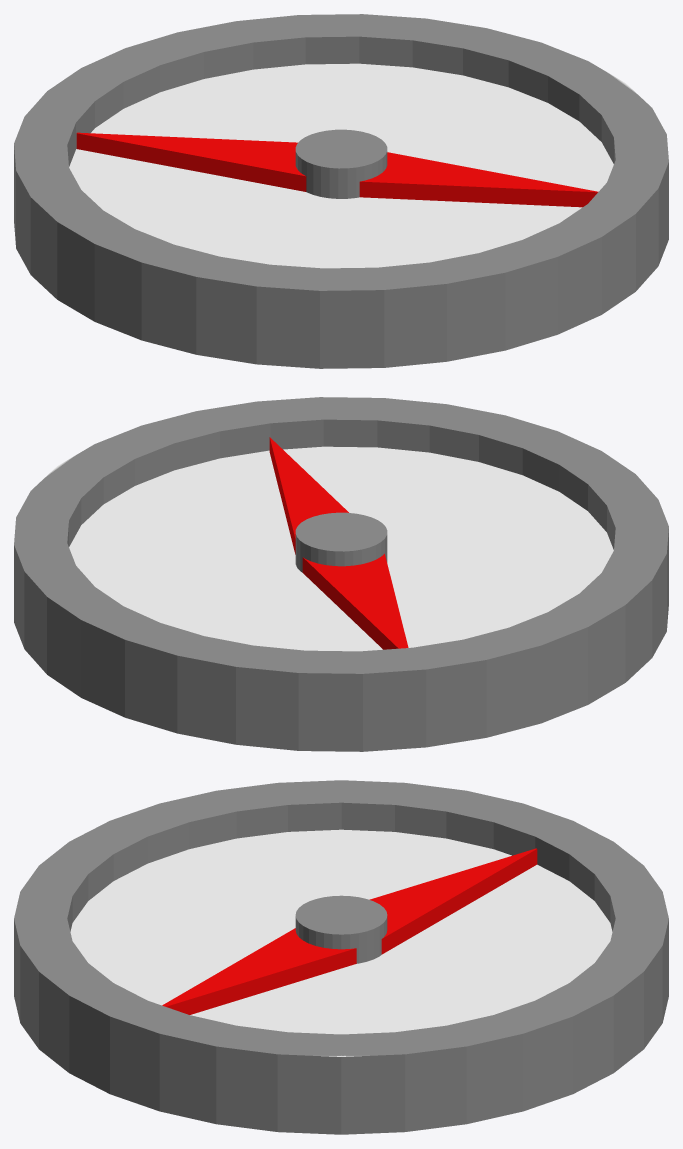
Rendered from compass.fbx.
The picture shows the model from 3 angles, top to bottom: view 1: azimuth 30°, elevation 25°; view 2: azimuth 150°, elevation 25°; view 3: azimuth 270°, elevation 25°; orthographic projection.
Visible parts, largest first — view 1: Cylinder, Cube; view 2: Cylinder, Cube; view 3: Cylinder, Cube.
Part boxes in pixels (x1,y1,x2,y2): Cylinder: (14, 14, 668, 368); Cube: (76, 132, 598, 207); Cylinder: (14, 397, 668, 751); Cube: (269, 437, 408, 649); Cylinder: (14, 780, 668, 1134); Cube: (162, 848, 537, 1014).
Size of the model in its own units: 200 by 27.36 by 200.
Materials: 2 (2 with a texture image).
